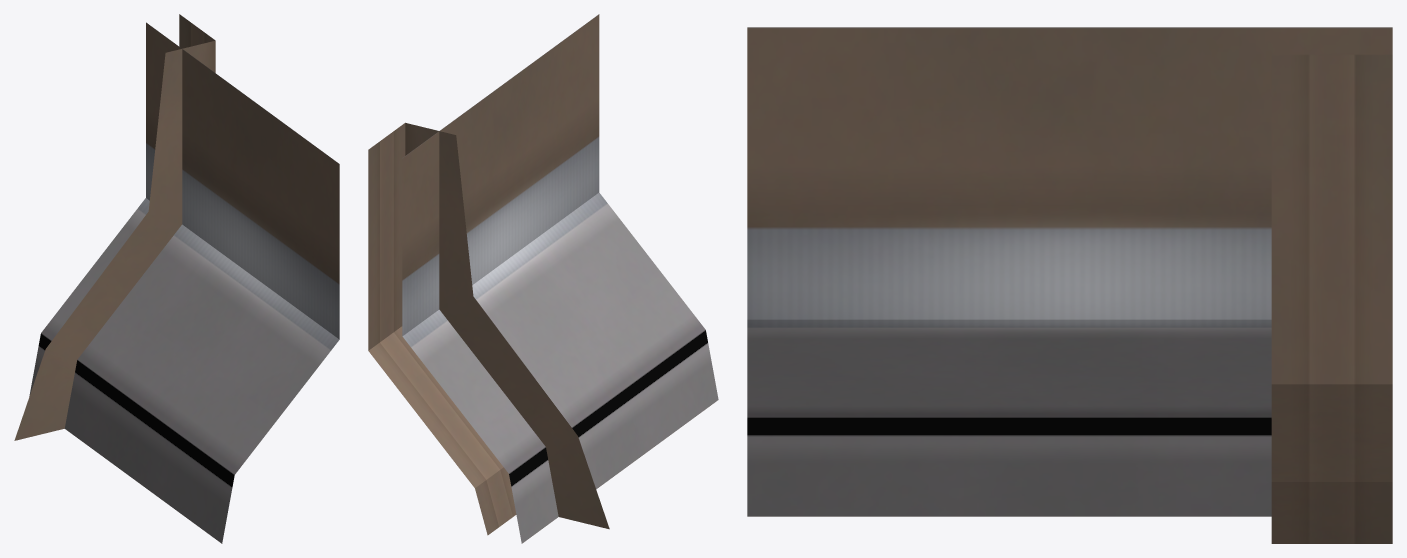
The model's file is model_tng_corridor_angled_alt_top_right.obj.
The picture shows the model from 3 angles, left to right: view 1: azimuth 30°, elevation 25°; view 2: azimuth 150°, elevation 25°; view 3: azimuth 270°, elevation 25°; orthographic projection. The views are drawn at different scales.
Parts seen in each view (by area): view 1: corridor_top_right_Cube.009; view 2: corridor_top_right_Cube.009; view 3: corridor_top_right_Cube.009.
Boxes of the visible parts, x1=… form: corridor_top_right_Cube.009: x1=14, y1=14, x2=339, y2=543; corridor_top_right_Cube.009: x1=368, y1=14, x2=718, y2=543; corridor_top_right_Cube.009: x1=747, y1=27, x2=1392, y2=543.
Size of the model in its own units: 0.6 by 1 by 1.
